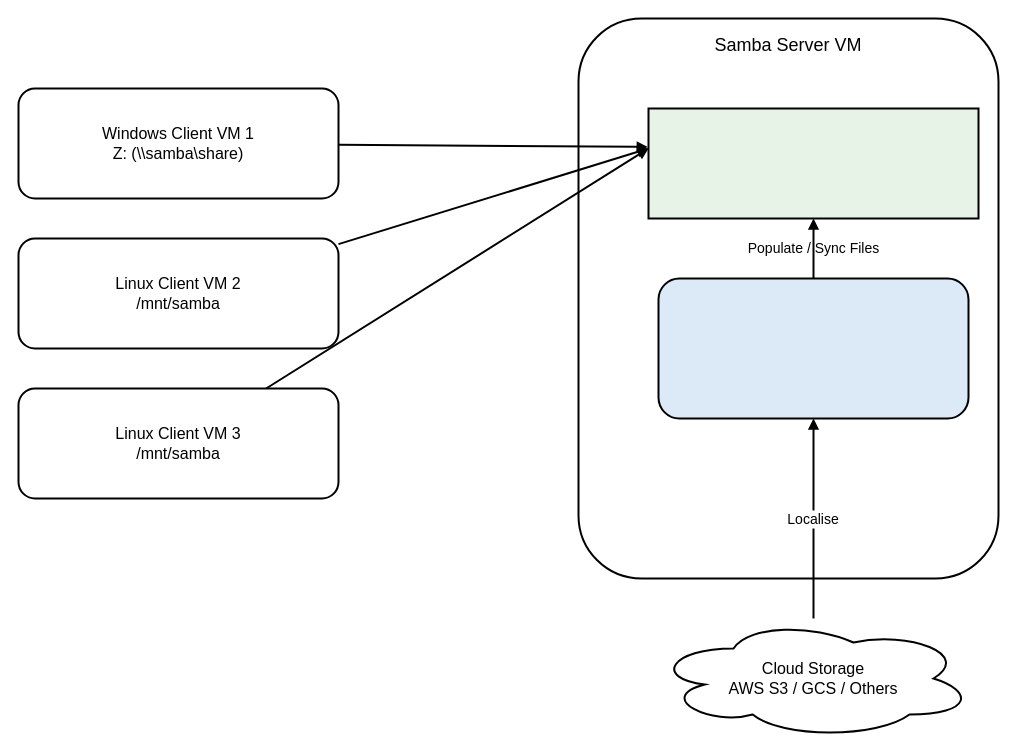
The diagram is 1016 pixels wide and 756 high, and some of its shapes have lost their labels. The shapes that lost their labels are listed below. From the top down, each one's centre as x and y in pixels, then its label:
pixel 813 163: Export Directory /srv/samba/share
pixel 813 348: SST (Localise data from Cloud)
